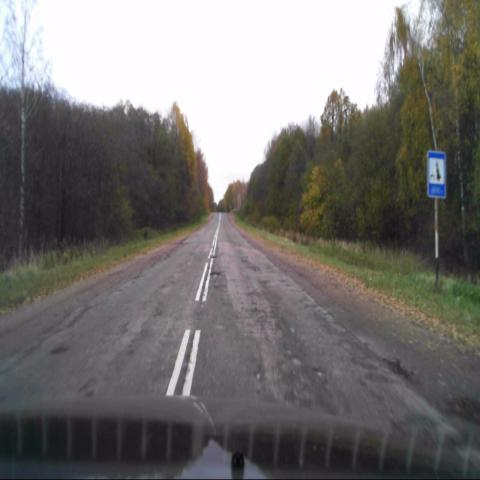7_11: (426, 151, 447, 201)
